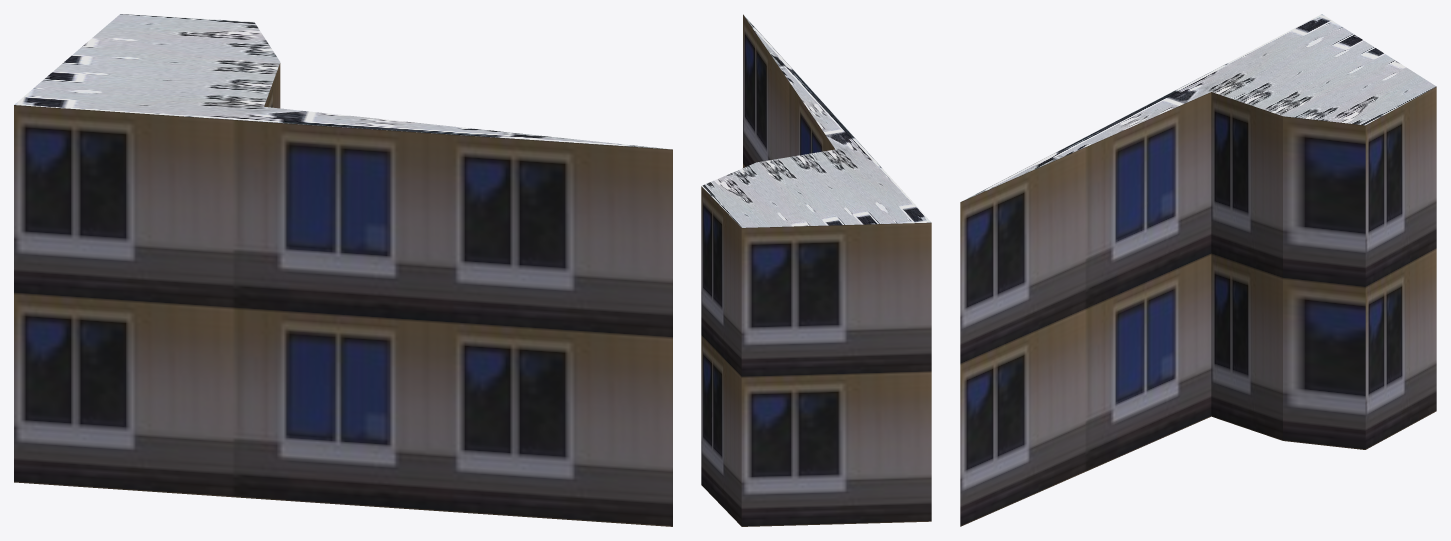
The model's file is ResTex__3198.fbx.
3 views of the same model, side by side, from view 1: azimuth 30°, elevation 25°; view 2: azimuth 150°, elevation 25°; view 3: azimuth 270°, elevation 25° (orthographic). The views are drawn at different scales.
Parts seen in each view (by area): view 1: CityEngineMaterial_5_m, CityEngineMaterial_m; view 2: CityEngineMaterial_5_m, CityEngineMaterial_m; view 3: CityEngineMaterial_5_m, CityEngineMaterial_m.
Boxes of the visible parts, x1=… form: CityEngineMaterial_5_m: x1=14, y1=63, x2=672, y2=526; CityEngineMaterial_m: x1=14, y1=14, x2=669, y2=149; CityEngineMaterial_5_m: x1=701, y1=14, x2=931, y2=526; CityEngineMaterial_m: x1=701, y1=15, x2=931, y2=227; CityEngineMaterial_5_m: x1=960, y1=87, x2=1436, y2=526; CityEngineMaterial_m: x1=961, y1=14, x2=1436, y2=201.
Bounding box in the file's own units: 7.46 × 6 × 7.98.
Materials: 2 (2 with a texture image).
